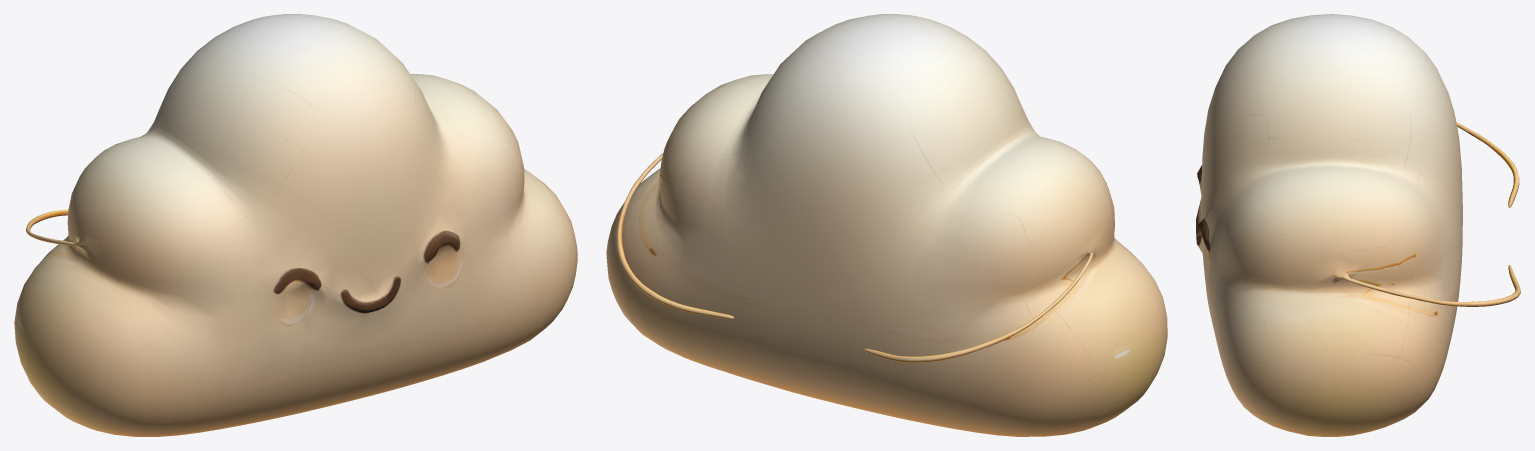
File: Bake_Nube.fbx
3 views of the same model, side by side, from view 1: azimuth 30°, elevation 25°; view 2: azimuth 150°, elevation 25°; view 3: azimuth 270°, elevation 25° (orthographic). The views are drawn at different scales.
Parts seen in each view (by area): view 1: Retopo_model; view 2: Retopo_model; view 3: Retopo_model.
Part boxes in pixels (x1,y1,x2,y2): Retopo_model: [14, 14, 577, 436]; Retopo_model: [606, 14, 1167, 436]; Retopo_model: [1196, 14, 1520, 436].
Size of the model in its own units: 189 by 125 by 110.
1 material, 1 textured.
